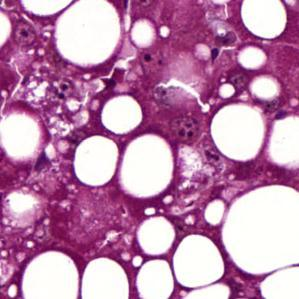steatosis: (210, 101, 268, 161), (173, 238, 230, 284), (74, 134, 118, 186), (132, 216, 181, 254), (102, 96, 146, 134)
